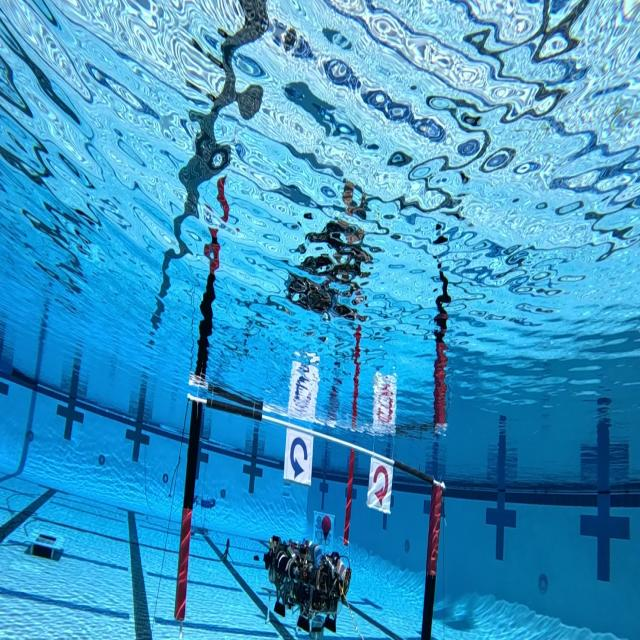blue_side: (284, 427, 313, 490)
red_side: (368, 452, 396, 516)
